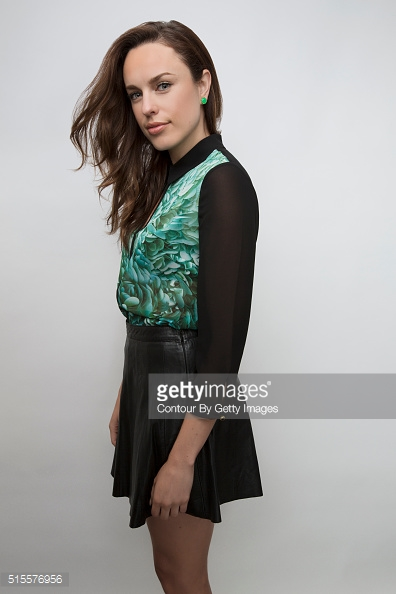em pe: (34, 28, 279, 521)
